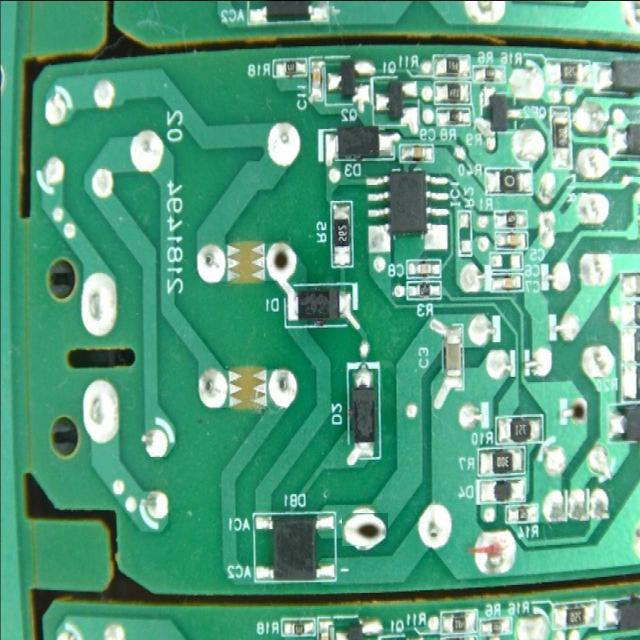damged: (345, 509, 385, 549), (266, 239, 294, 280), (568, 397, 586, 425)
